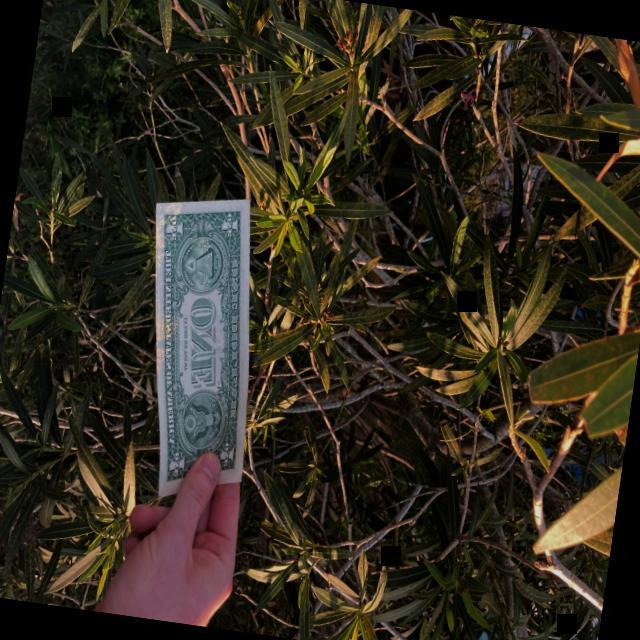one: (156, 199, 248, 496)
